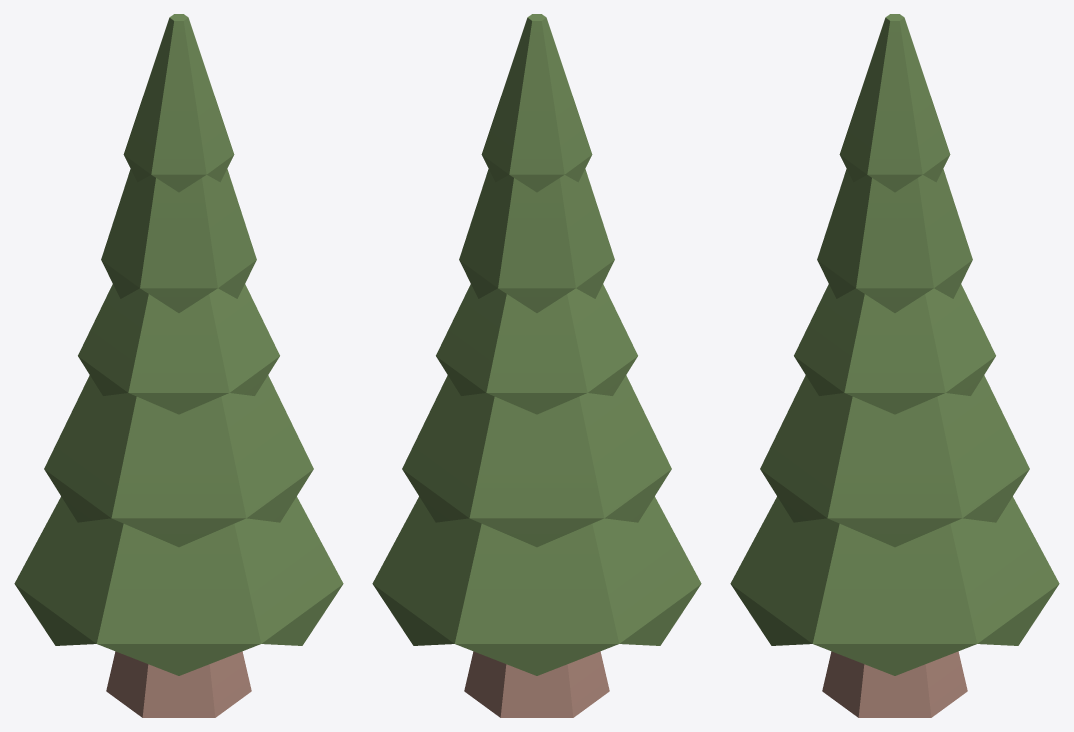
The model's file is meadow-tree-spruce.glb.
The picture shows the model from 3 angles, left to right: view 1: azimuth 30°, elevation 25°; view 2: azimuth 150°, elevation 25°; view 3: azimuth 270°, elevation 25°; orthographic projection.
Visible parts, largest first — view 1: Meadow spruce; view 2: Meadow spruce; view 3: Meadow spruce.
Boxes of the visible parts, left/top/right/bottom form: Meadow spruce: left=14, top=14, right=343, bottom=717; Meadow spruce: left=372, top=14, right=701, bottom=717; Meadow spruce: left=730, top=14, right=1059, bottom=717.
Size of the model in its own units: 0.4804 by 1.25 by 0.5547.
